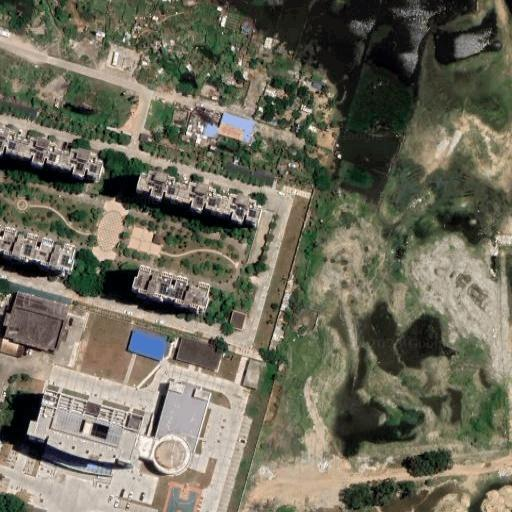building: (27, 389, 144, 462), (134, 383, 211, 473), (134, 170, 259, 225), (0, 130, 102, 183), (0, 224, 78, 271), (4, 304, 69, 352), (133, 268, 209, 309), (177, 336, 223, 371), (16, 292, 69, 319), (128, 329, 168, 362), (220, 113, 257, 144), (225, 163, 272, 184), (477, 487, 511, 511), (242, 356, 266, 388), (0, 98, 38, 117), (229, 310, 246, 331), (204, 124, 221, 140), (280, 293, 291, 311), (263, 37, 273, 49), (272, 328, 280, 340), (32, 507, 48, 512), (140, 133, 149, 141), (153, 234, 161, 243), (313, 82, 322, 89)
